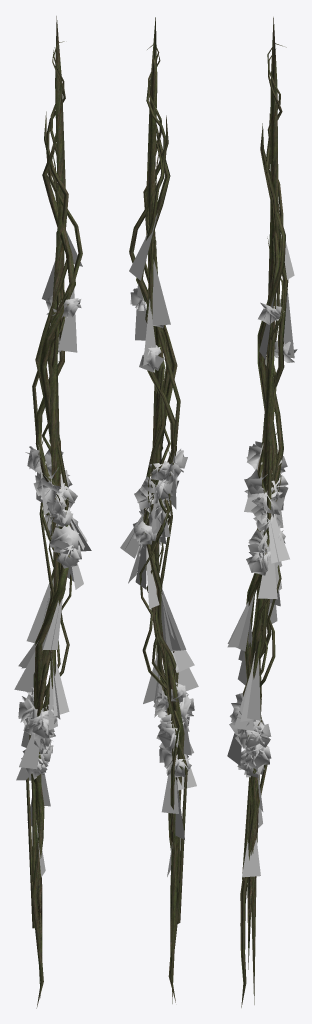
Rendered from Liana1_L3.fbx.
3 views of the same model, side by side, from view 1: azimuth 30°, elevation 25°; view 2: azimuth 210°, elevation 25°; view 3: azimuth 330°, elevation 25° (orthographic).
Parts seen in each view (by area): view 1: polySurface33; view 2: polySurface33; view 3: polySurface33.
Boxes of the visible parts, x1=… form: polySurface33: x1=14, y1=16, x2=91, y2=1008; polySurface33: x1=120, y1=17, x2=198, y2=1003; polySurface33: x1=227, y1=17, x2=297, y2=1007.
Bounding box in the file's own units: 99.7 × 1433 × 89.77.
